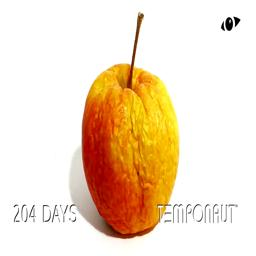Apple Rotten: (73, 9, 183, 239)
